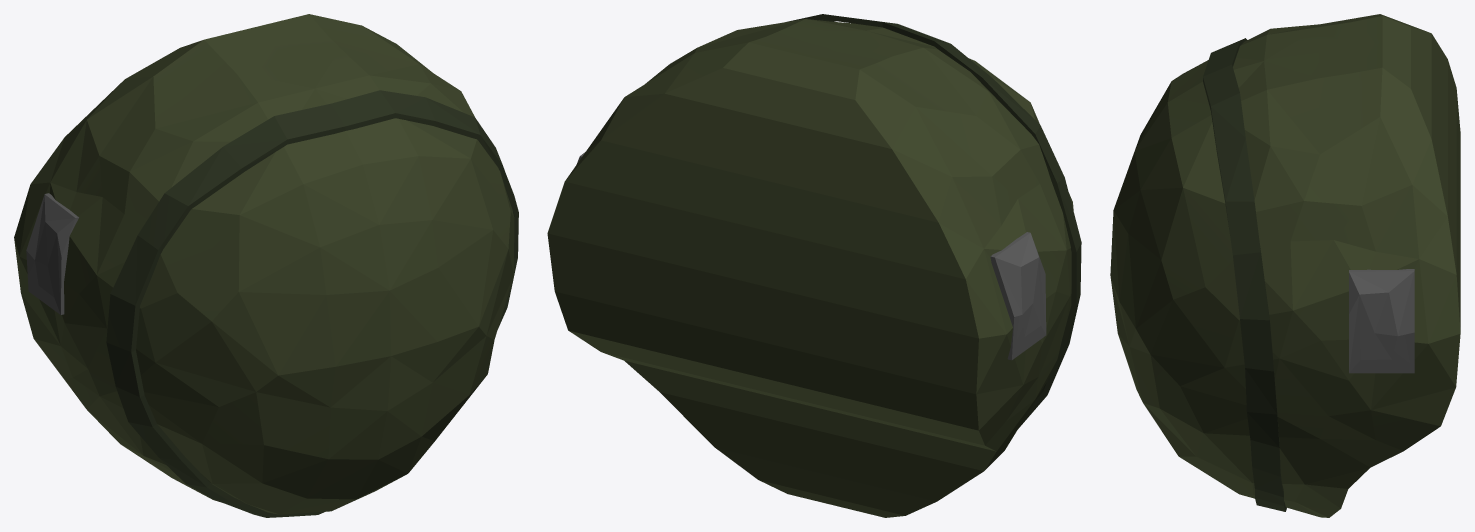
The model's file is MilitaryHelmet.glb.
3 renders of one model, left to right at view 1: azimuth 30°, elevation 25°; view 2: azimuth 150°, elevation 25°; view 3: azimuth 270°, elevation 25°, orthographic. The views are drawn at different scales.
Visible parts, largest first — view 1: MilitaryHelmet; view 2: MilitaryHelmet; view 3: MilitaryHelmet.
Part boxes in pixels (bbox=[...]): MilitaryHelmet: bbox=[14, 14, 518, 517]; MilitaryHelmet: bbox=[547, 14, 1081, 517]; MilitaryHelmet: bbox=[1110, 14, 1460, 517].
Size of the model in its own units: 0.2263 by 0.2258 by 0.1582.
1 material, 1 textured.
